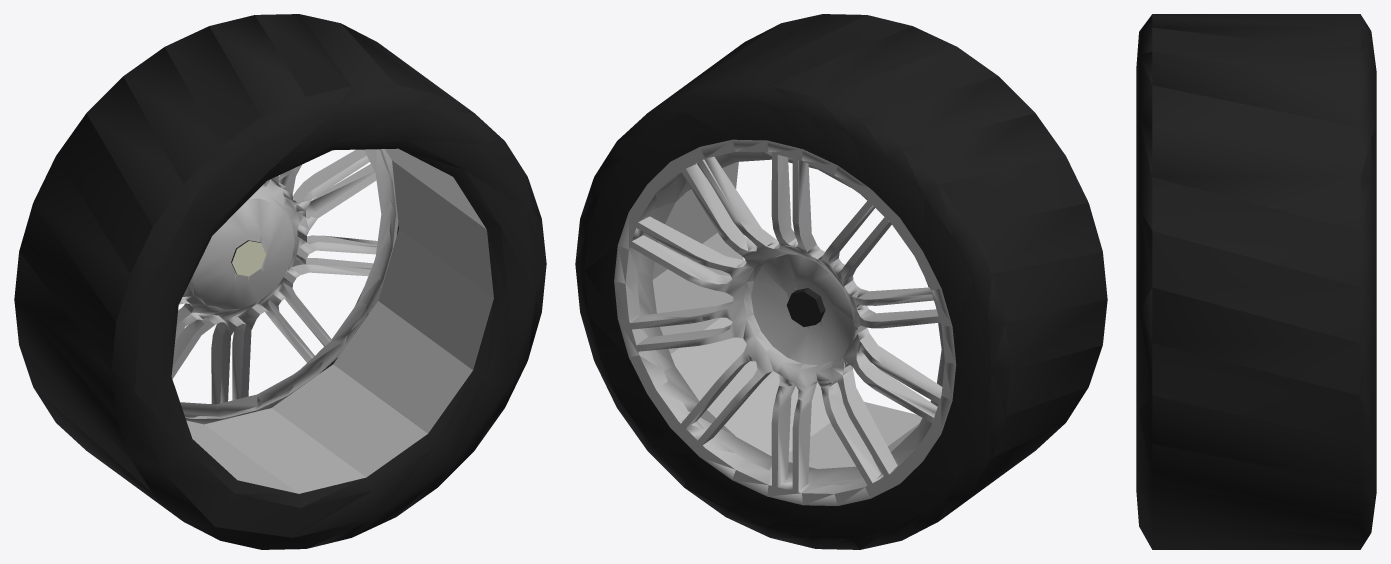
File: M3_GTR_Wheel.dae
The picture shows the model from 3 angles, left to right: view 1: azimuth 30°, elevation 25°; view 2: azimuth 150°, elevation 25°; view 3: azimuth 270°, elevation 25°; orthographic projection. The views are drawn at different scales.
Parts seen in each view (by area): view 1: Model; view 2: Model; view 3: Model.
Boxes of the visible parts, x1,y1,x2,y2 form: Model: (14,14,546,549); Model: (575,14,1107,549); Model: (1136,14,1376,549).
Size of the model in its own units: 1.64 by 0.7318 by 1.63.
Materials: 5 (1 with a texture image).
